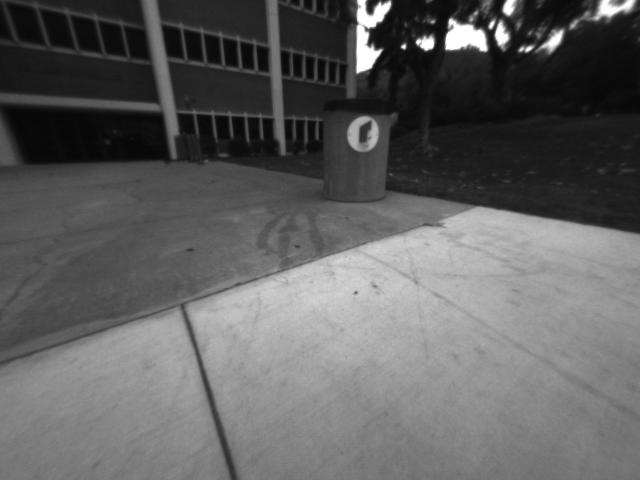trashcan: (316, 96, 391, 198)
